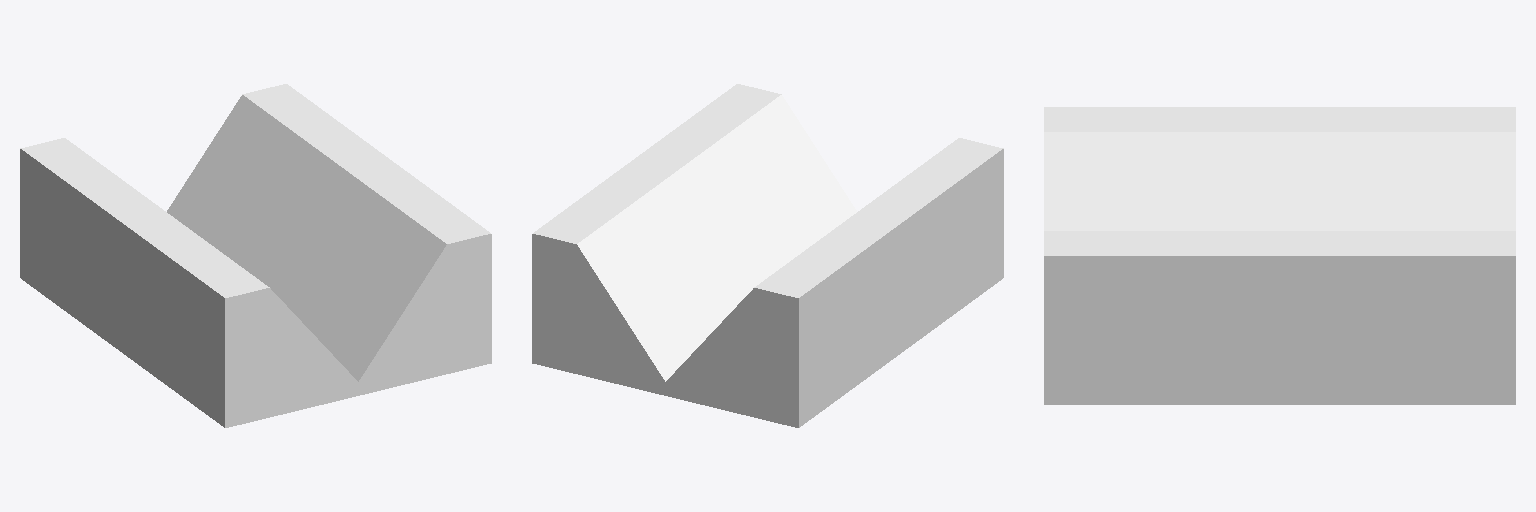
URDF robot description (work3):
<?xml version="1.0" encoding="utf-8"?>
<!-- This URDF was automatically created by SolidWorks to URDF Exporter! Originally created by [author] ([email redacted]) 
     Commit Version: 1.6.0-1-g15f4949  Build Version: 1.6.7594.29634
     For more information, please see http://wiki.ros.org/sw_urdf_exporter -->
<robot
  name="work3">
  <link
    name="base_link_work">
    <inertial>
      <origin
        xyz="4.26720433973685E-17 -1.02907324846082E-17 0.0859887005649717"
        rpy="0 0 0" />
      <mass
        value="94.4" />
      <inertia
        ixx="5.59098772128061"
        ixy="2.59279089367009E-16"
        ixz="-2.87084743930074E-16"
        iyy="4.32165438794727"
        iyz="3.06601348594097E-17"
        izz="8.8" />
    </inertial>
    <visual>
      <origin
        xyz="0 0 0"
        rpy="0 0 0" />
      <geometry>
        <mesh
          filename="package://work3/meshes/base_link_work.STL" />
      </geometry>
      <material
        name="">
        <color
          rgba="1 1 1 1" />
      </material>
    </visual>
    <collision>
      <origin
        xyz="0 0 0"
        rpy="0 0 0" />
      <geometry>
        <mesh
          filename="package://work3/meshes/base_link_work.STL" />
      </geometry>
    </collision>
  </link>
</robot>

--- Render facts (derived) ---
Views: 3 orthographic renders of the robot side by side, from view 1: azimuth 30°, elevation 25°; view 2: azimuth 150°, elevation 25°; view 3: azimuth 270°, elevation 25°.
Model work3 with 1 links and 0 joints (none), rooted at base_link_work, posed every joint at zero.
Links seen in each view (by area): view 1: base_link_work; view 2: base_link_work; view 3: base_link_work.
Boxes of the visible links, x1=… form: base_link_work: x1=20, y1=84, x2=491, y2=427; base_link_work: x1=532, y1=84, x2=1003, y2=427; base_link_work: x1=1044, y1=107, x2=1515, y2=404.
Bounding box of the posed robot: 0.6 × 0.8 × 0.28 m (x, y, z).
1 mesh visuals loaded from 1 distinct referenced files (1 binary STL).